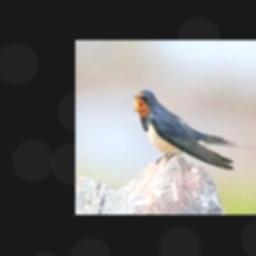Swallow: (133, 90, 235, 169)
